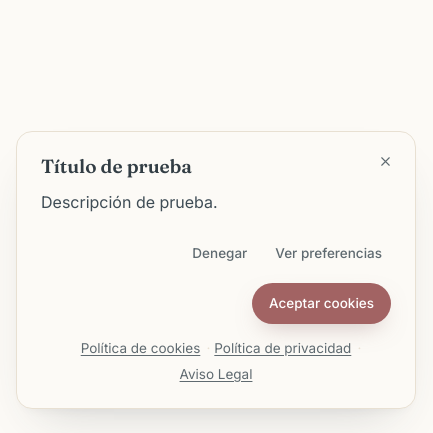
Test: CookieConsent › uses the title, description and category text from the WordPress setting
Click the button "Ver preferencias". click: [329, 253]
box: [266,233,391,273]
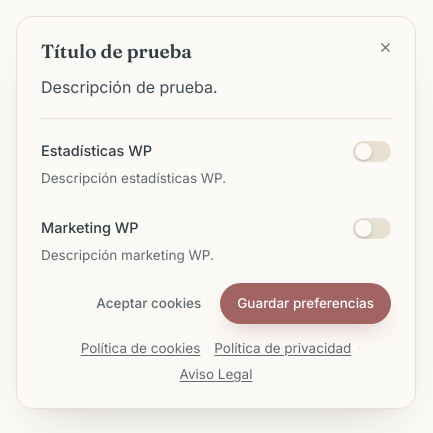
Result: the text "Estadísticas WP" is shown at [41,140,152,164]
Result: the text "Marketing WP" is shown at [41,216,139,241]
